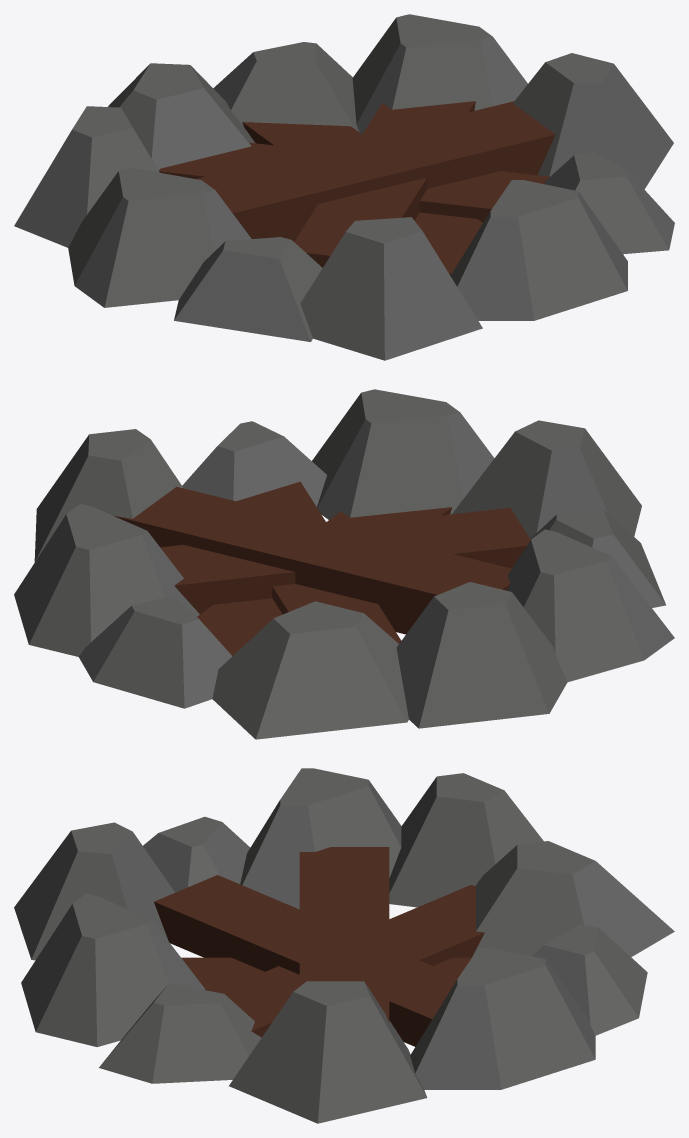
Rendered from Firepit.fbx.
3 views of the same model, one above another, from view 1: azimuth 30°, elevation 25°; view 2: azimuth 150°, elevation 25°; view 3: azimuth 270°, elevation 25° (orthographic). The views are drawn at different scales.
Parts seen in each view (by area): view 1: campfire_stones, campfire_planks; view 2: campfire_stones, campfire_planks; view 3: campfire_stones, campfire_planks.
Boxes of the visible parts, <box> form: campfire_stones: <box>14,14,674,360</box>; campfire_planks: <box>159,101,555,275</box>; campfire_stones: <box>14,389,674,739</box>; campfire_planks: <box>113,481,530,655</box>; campfire_stones: <box>14,768,674,1123</box>; campfire_planks: <box>154,847,484,1046</box>.
Size of the model in its own units: 5.41 by 0.7775 by 5.16.
